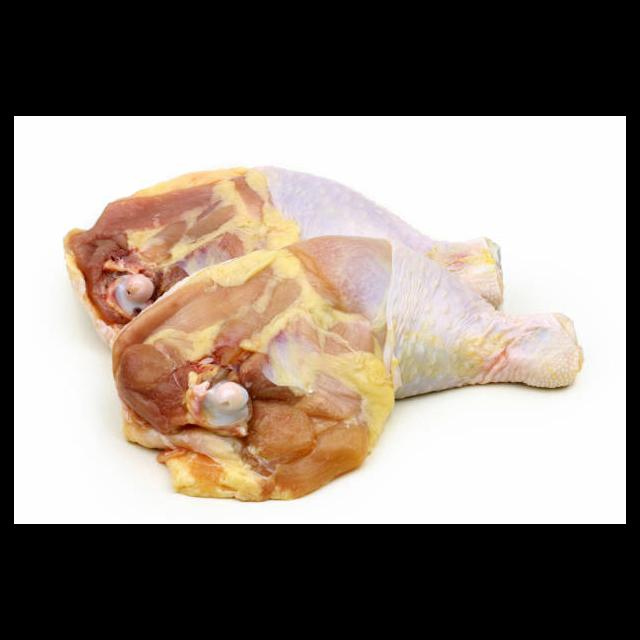chicken: (62, 163, 584, 504)
